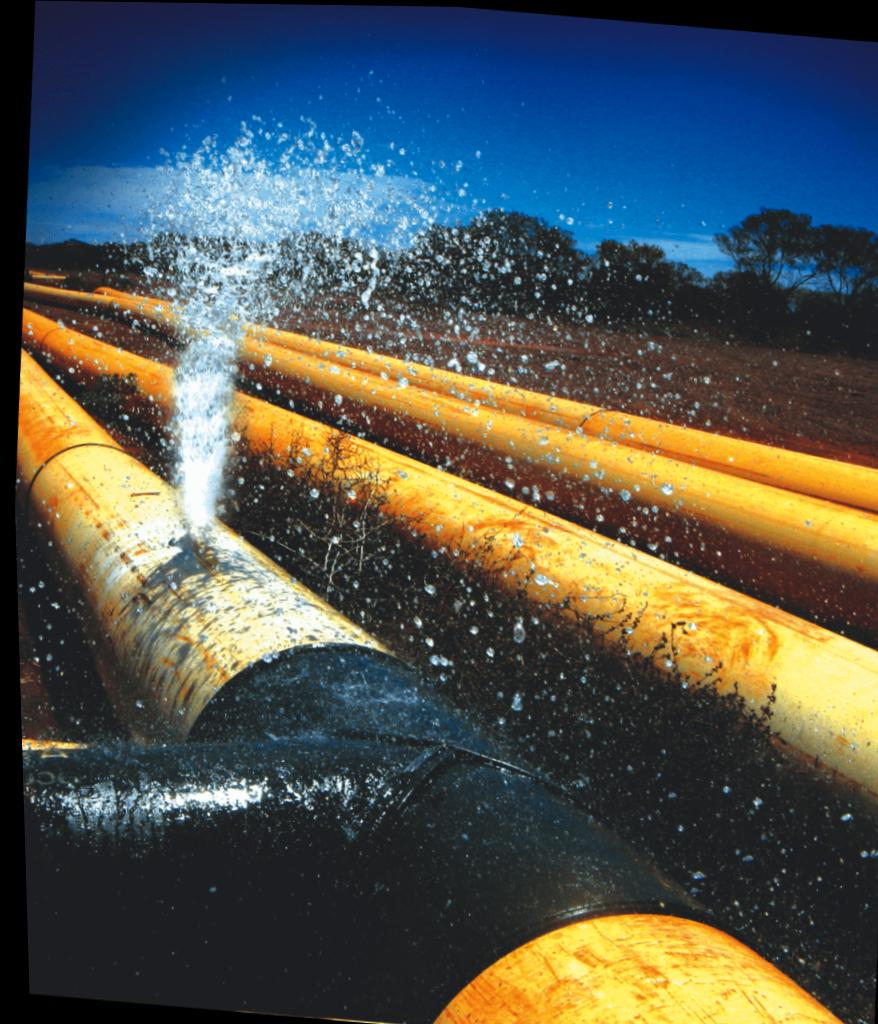leak: (163, 112, 573, 621), (24, 758, 433, 794)
